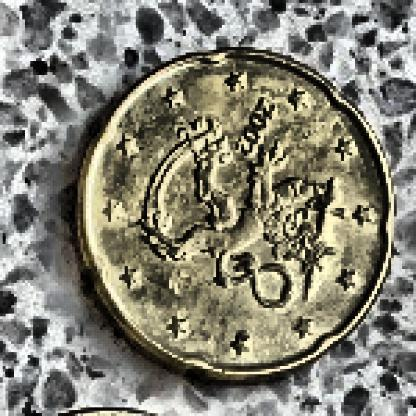coin: (83, 46, 395, 385)
